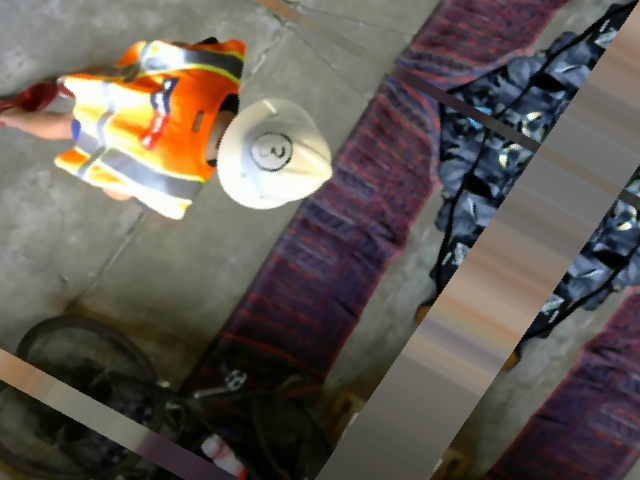three: (242, 122, 300, 177)
